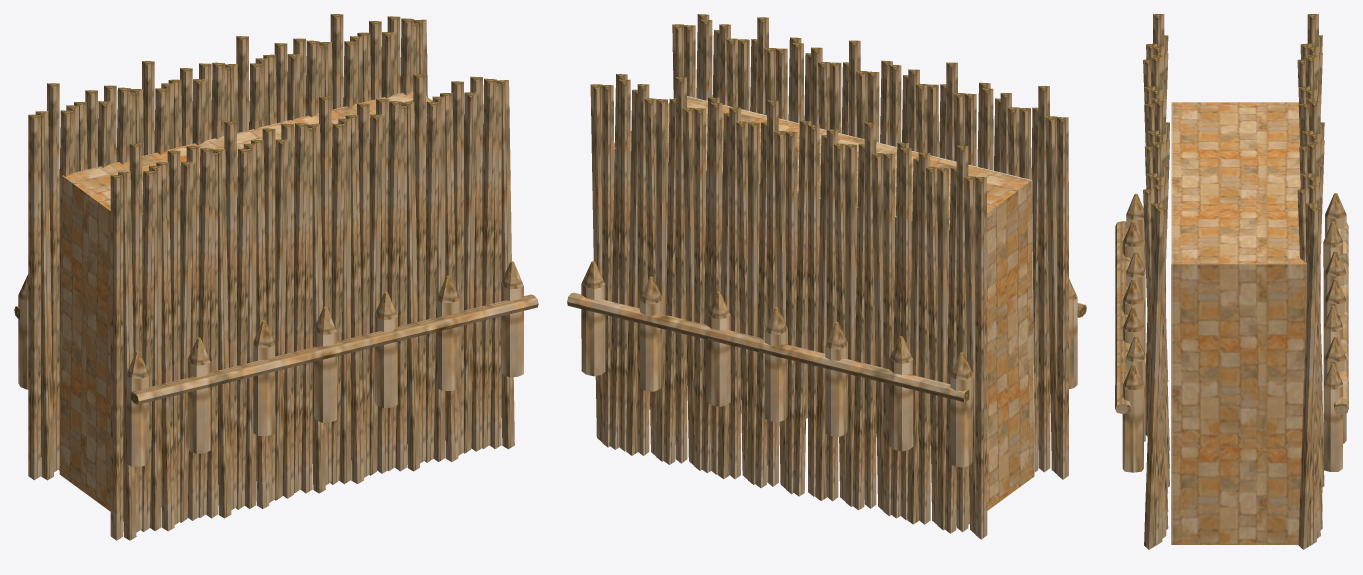
File: wall_short.dae
The picture shows the model from 3 angles, left to right: view 1: azimuth 30°, elevation 25°; view 2: azimuth 150°, elevation 25°; view 3: azimuth 270°, elevation 25°; orthographic projection. The views are drawn at different scales.
Visible parts, largest first — view 1: wall_short; view 2: wall_short; view 3: wall_short.
Part boxes in pixels (x1,y1,x2,y2): wall_short: [14, 14, 538, 540]; wall_short: [567, 14, 1086, 539]; wall_short: [1115, 14, 1348, 549].
Bounding box in the file's own units: 15.35 × 8.26 × 14.62.
